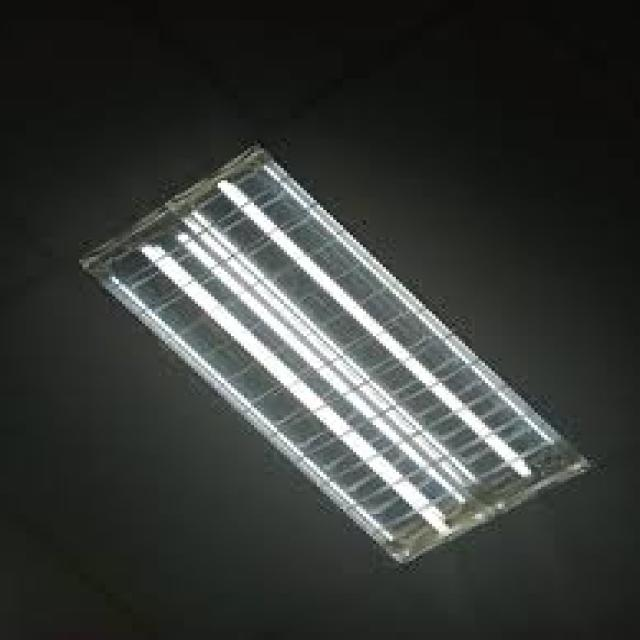light: (77, 141, 598, 566)
